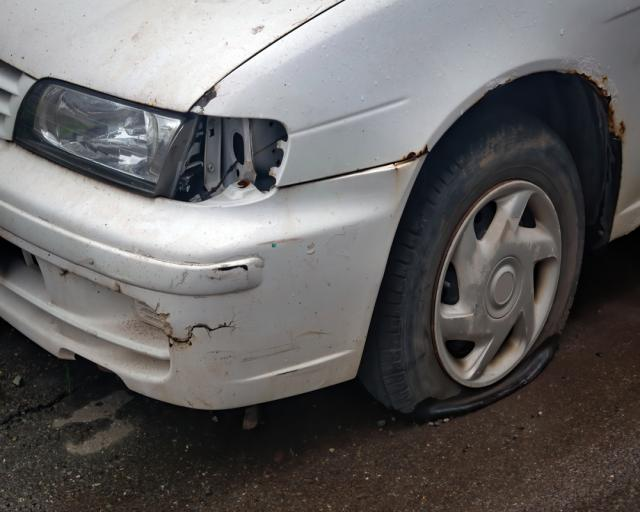crack: (167, 321, 236, 346)
tire flat: (360, 100, 591, 416)
